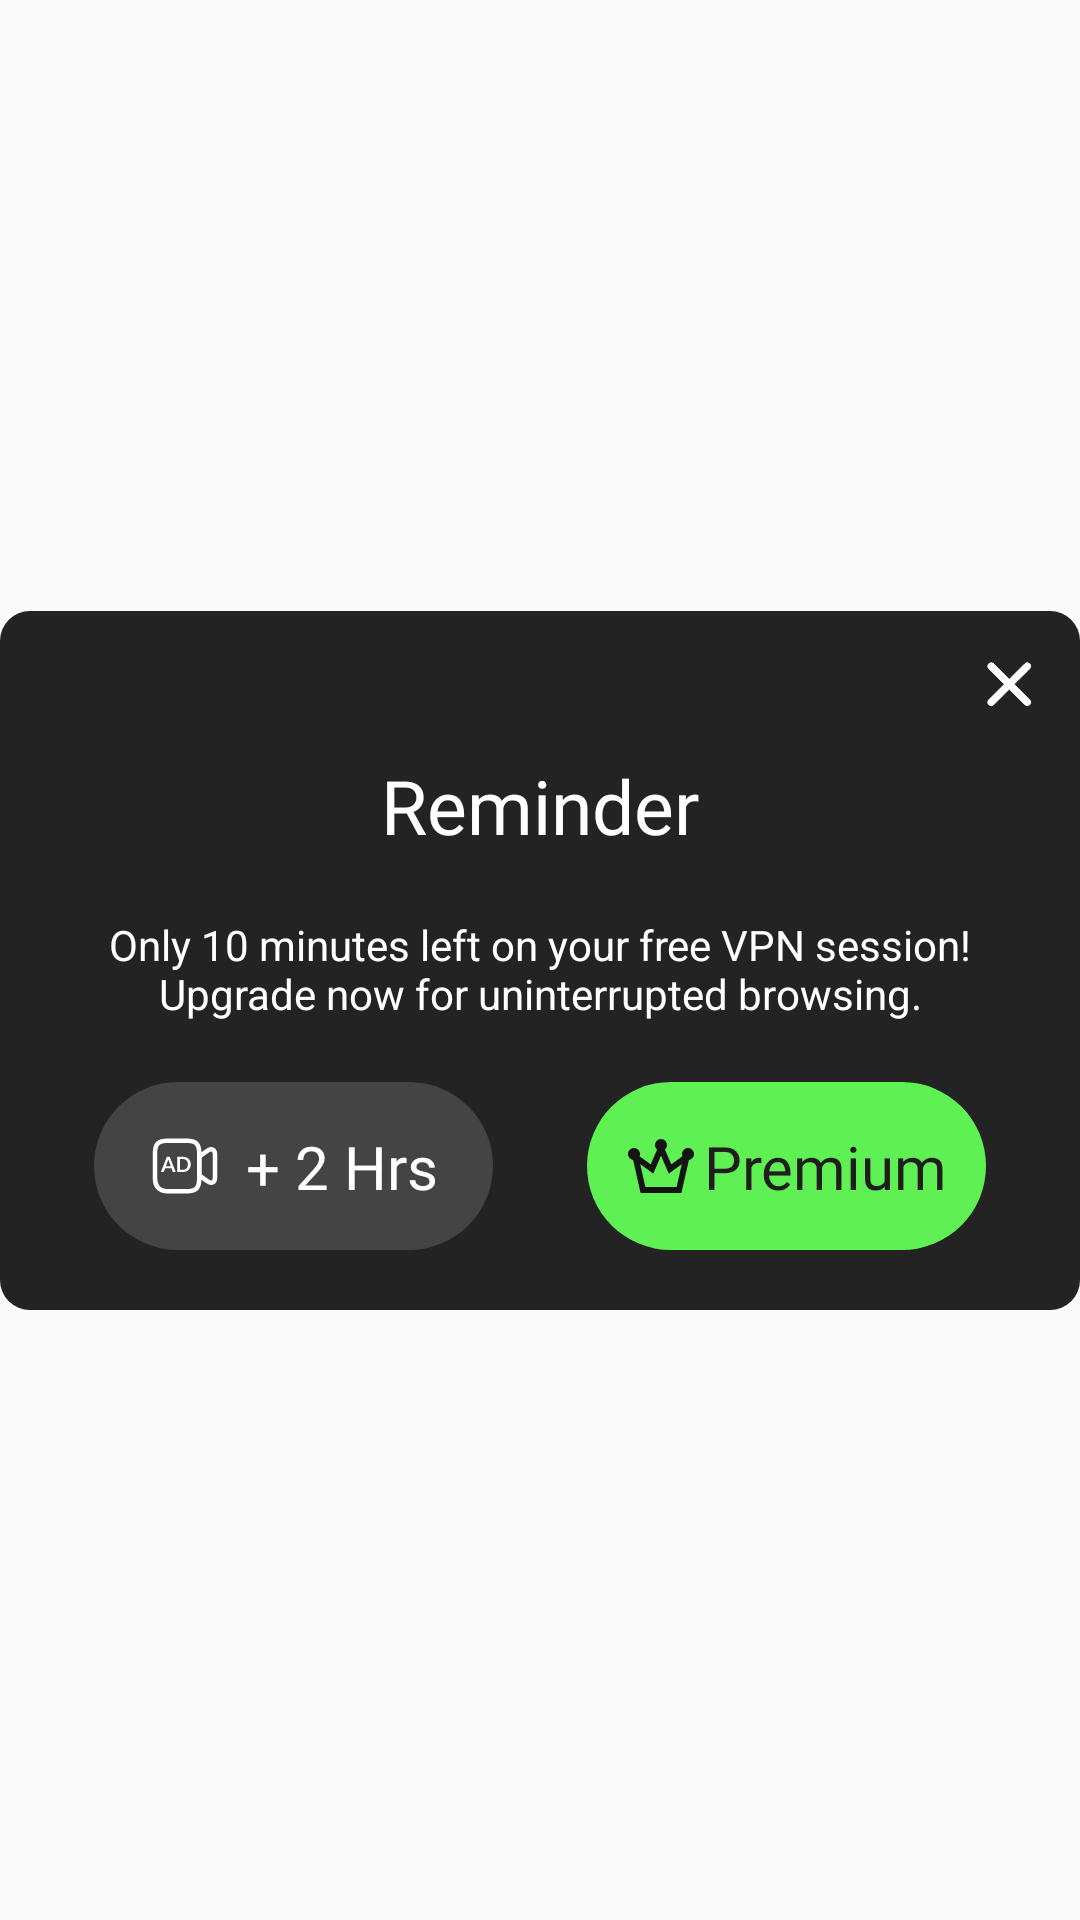

Icon click points for this 1080 × 1920 phone screenshot, format (x=x, y=y):
cross: (x=1009, y=684)
crown: (x=661, y=1166)
video: (x=185, y=1166)
